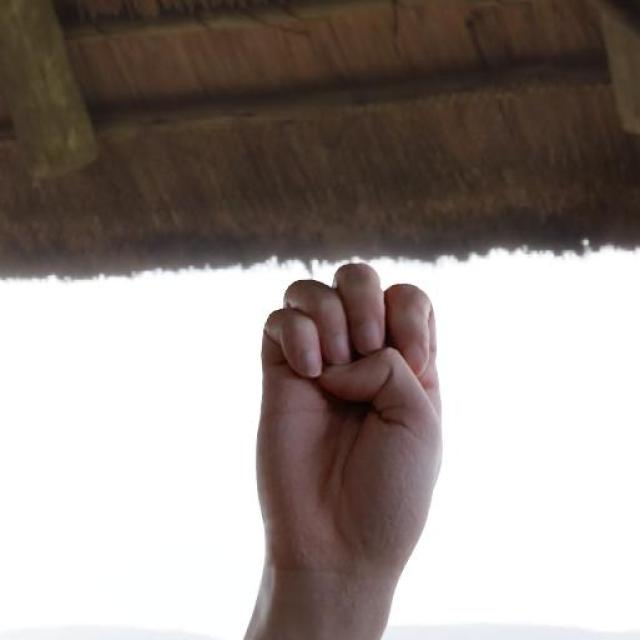E: (250, 256, 449, 582)
